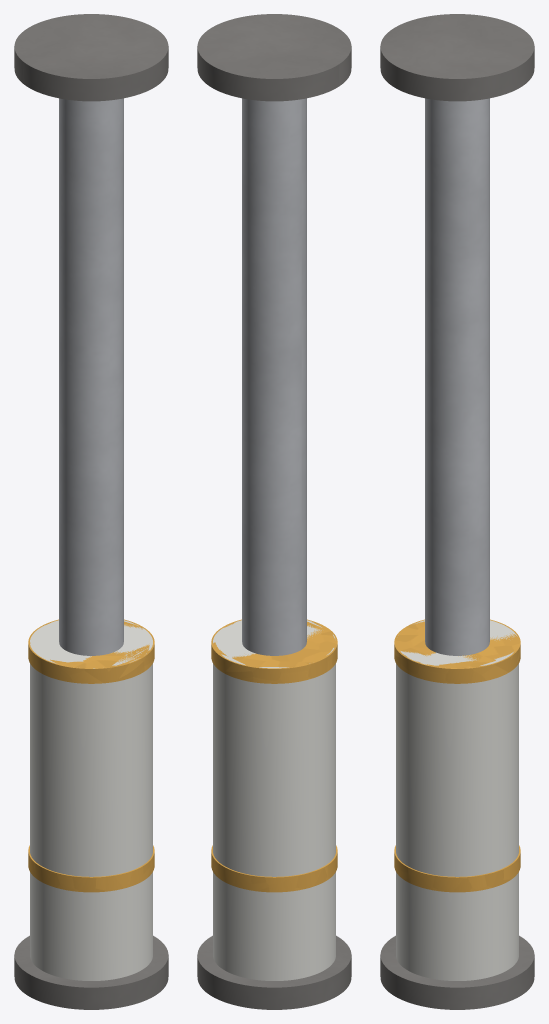
Rendered from robo02_piston_m_extended.glb.
The picture shows the model from 3 angles, left to right: view 1: azimuth 30°, elevation 25°; view 2: azimuth 150°, elevation 25°; view 3: azimuth 270°, elevation 25°; orthographic projection.
Parts seen in each view (by area): view 1: barrel, rod, rod_plate, base_plate, barrel_bands; view 2: rod, barrel, rod_plate, barrel_bands, base_plate; view 3: rod, barrel, rod_plate, barrel_bands, base_plate.
Part boxes in pixels (x1=…): barrel: x1=30, y1=620, x2=152, y2=980; rod: x1=59, y1=98, x2=123, y2=655; rod_plate: x1=14, y1=14, x2=168, y2=101; base_plate: x1=14, y1=935, x2=168, y2=1009; barrel_bands: x1=28, y1=619, x2=154, y2=892; rod: x1=242, y1=98, x2=306, y2=655; barrel: x1=213, y1=620, x2=335, y2=980; rod_plate: x1=197, y1=14, x2=351, y2=101; barrel_bands: x1=211, y1=619, x2=337, y2=892; base_plate: x1=197, y1=935, x2=351, y2=1009; rod: x1=425, y1=98, x2=489, y2=655; barrel: x1=396, y1=620, x2=518, y2=980; rod_plate: x1=380, y1=14, x2=534, y2=101; barrel_bands: x1=394, y1=619, x2=520, y2=892; base_plate: x1=380, y1=935, x2=534, y2=1009.
Bounding box in the file's own units: 0.5996 × 4 × 0.5998.
4 materials, 3 textured.
